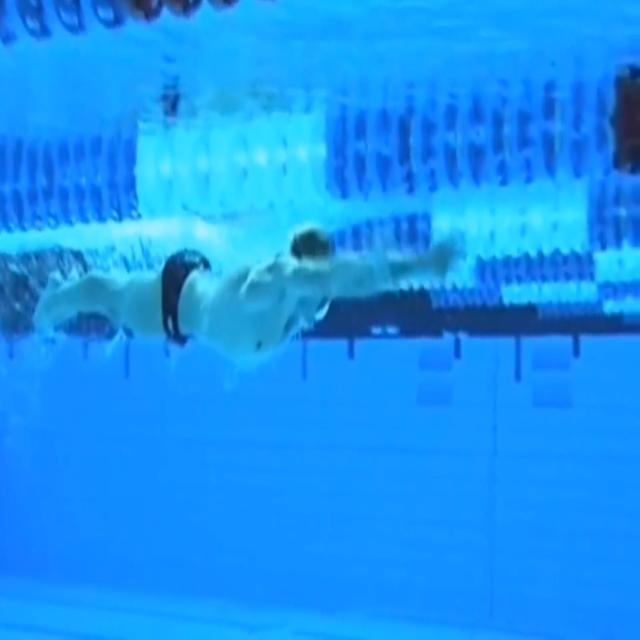Swimming: (34, 228, 461, 363)
